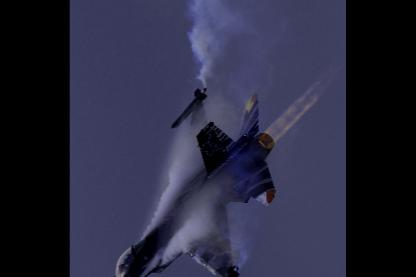F14: (95, 85, 277, 275)
